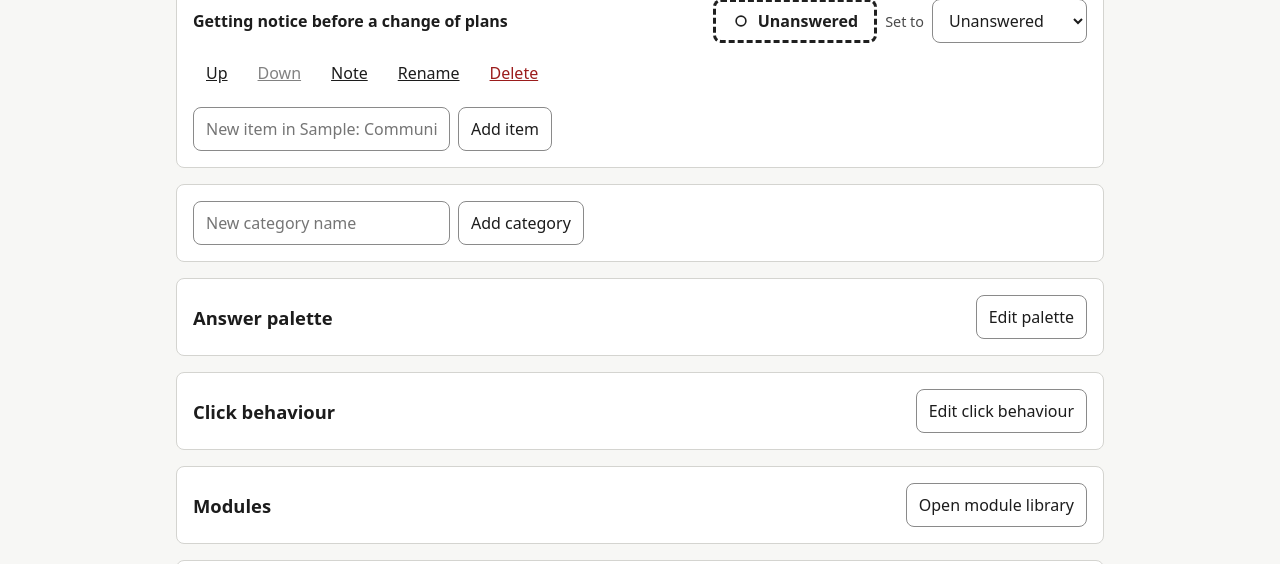
Test: contrast note in the state editor (M2-03) › waits quietly while a hex code is still being typed
(page scrolled)
Click the button "Edit palette".
click(1031, 317)  # box [976,295,1087,339]
(page scrolled)
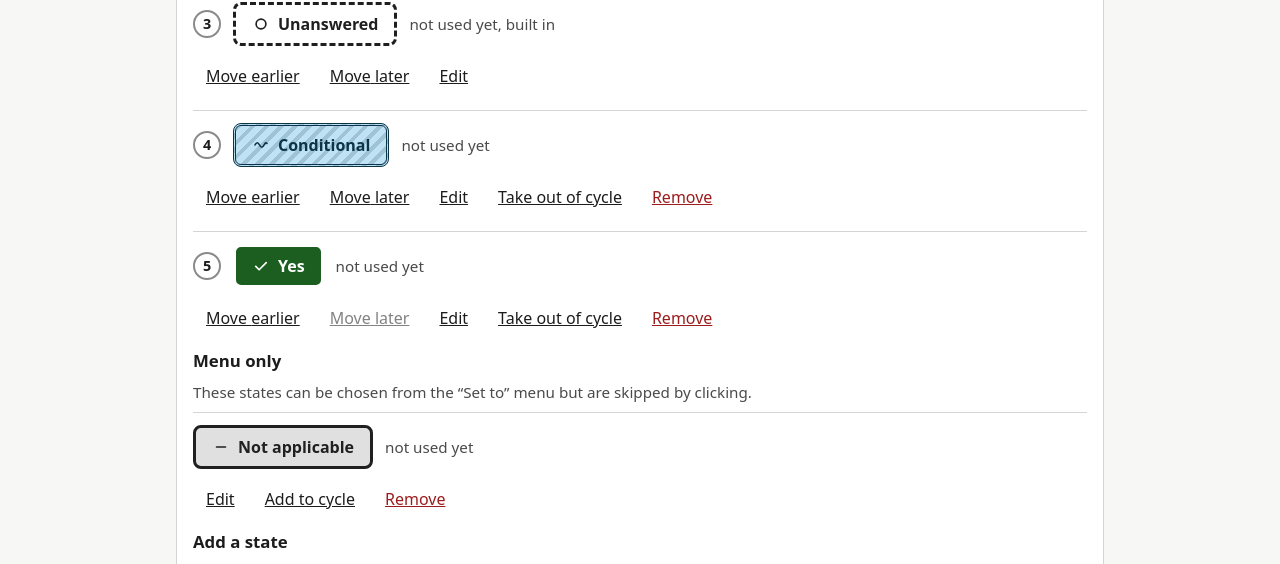
Click the button named "Edit Yes".
click(454, 318)  # box [426,296,481,340]
(page scrolled)
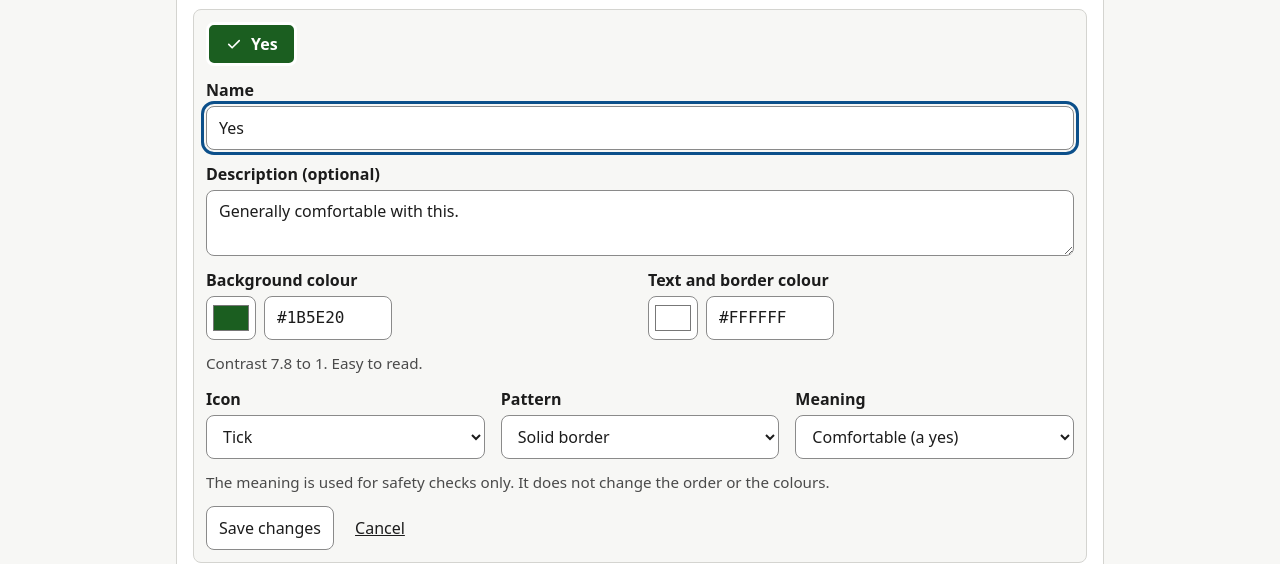
Replace the text in the field below "Text and border colour" with "#12" at x=770, y=318, box [706,296,834,340]
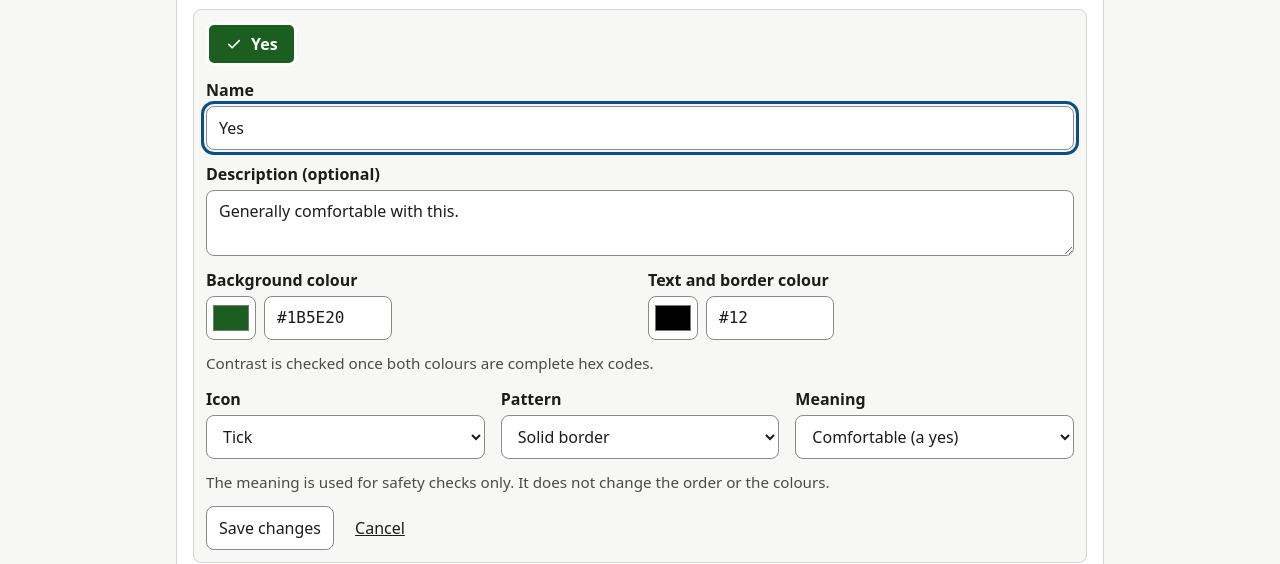
Check: the text with class "contrast-note" shows "once both colours are complete", box [206,353,654,373]
